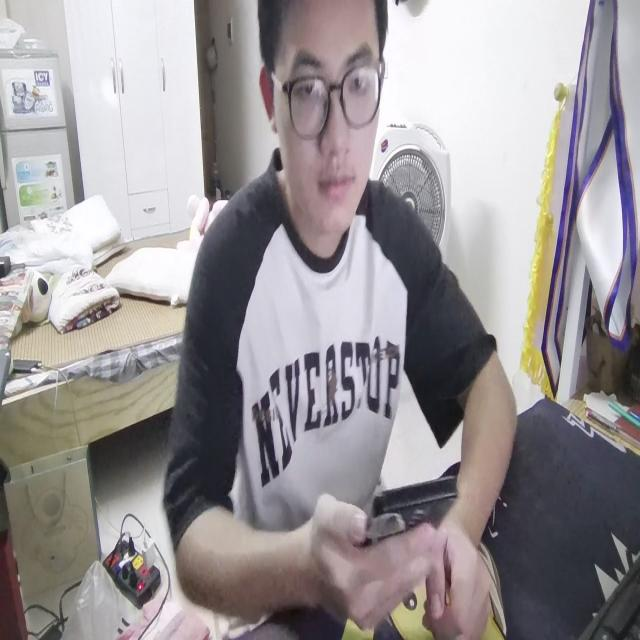phone: (357, 467, 457, 554)
student: (165, 0, 518, 640)
